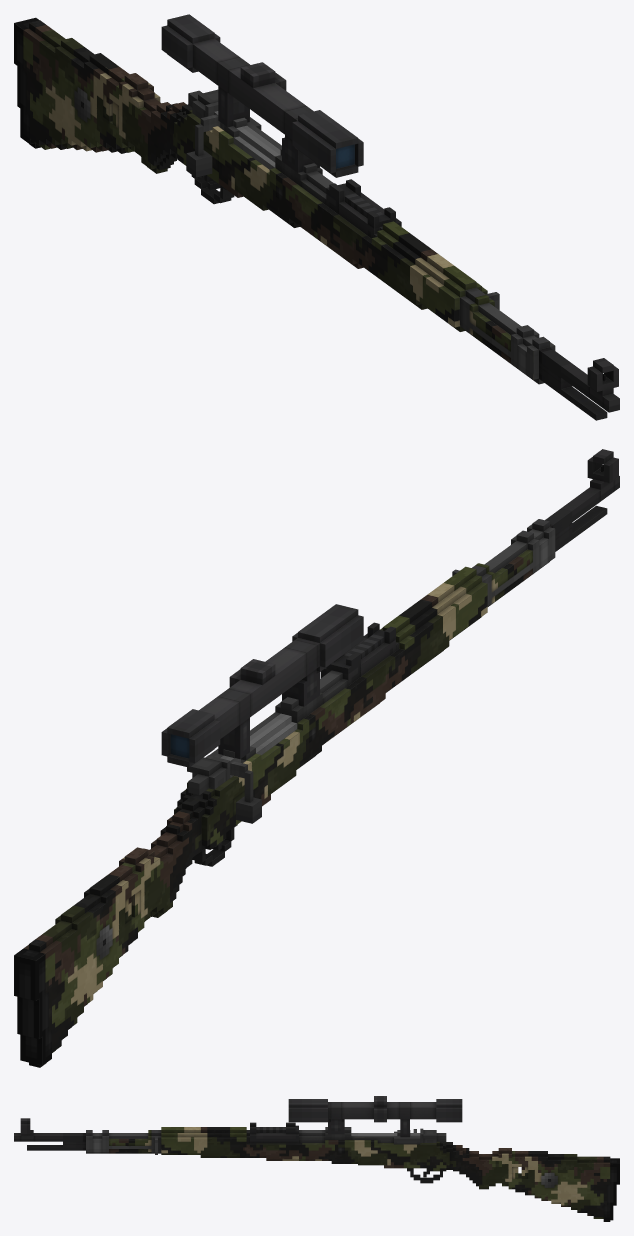
File: RD_KAR98K_MILITARY1945.glb
The picture shows the model from 3 angles, top to bottom: view 1: azimuth 30°, elevation 25°; view 2: azimuth 150°, elevation 25°; view 3: azimuth 270°, elevation 25°; orthographic projection. The views are drawn at different scales.
Visible parts, largest first — view 1: KAR98K, KAR98K_SCOPE, KAR98K_BOLTP2, KAR98K_BOLTP1; view 2: KAR98K, KAR98K_SCOPE, KAR98K_BOLTP2, KAR98K_BOLTP1; view 3: KAR98K, KAR98K_SCOPE, KAR98K_BOLTP1.
Boxes of the visible parts, bbox=[...] form: KAR98K: bbox=[14, 17, 619, 420]; KAR98K_SCOPE: bbox=[161, 14, 363, 177]; KAR98K_BOLTP2: bbox=[186, 111, 280, 177]; KAR98K_BOLTP1: bbox=[188, 89, 275, 169]; KAR98K: bbox=[14, 449, 619, 1067]; KAR98K_SCOPE: bbox=[161, 604, 363, 767]; KAR98K_BOLTP2: bbox=[220, 713, 291, 823]; KAR98K_BOLTP1: bbox=[187, 722, 297, 795]; KAR98K: bbox=[14, 1118, 619, 1221]; KAR98K_SCOPE: bbox=[288, 1096, 462, 1137]; KAR98K_BOLTP1: bbox=[420, 1128, 446, 1142].
Bounding box in the file's own units: 0.0984 × 0.4035 × 1.82.
Materials: 1 (1 with a texture image).
